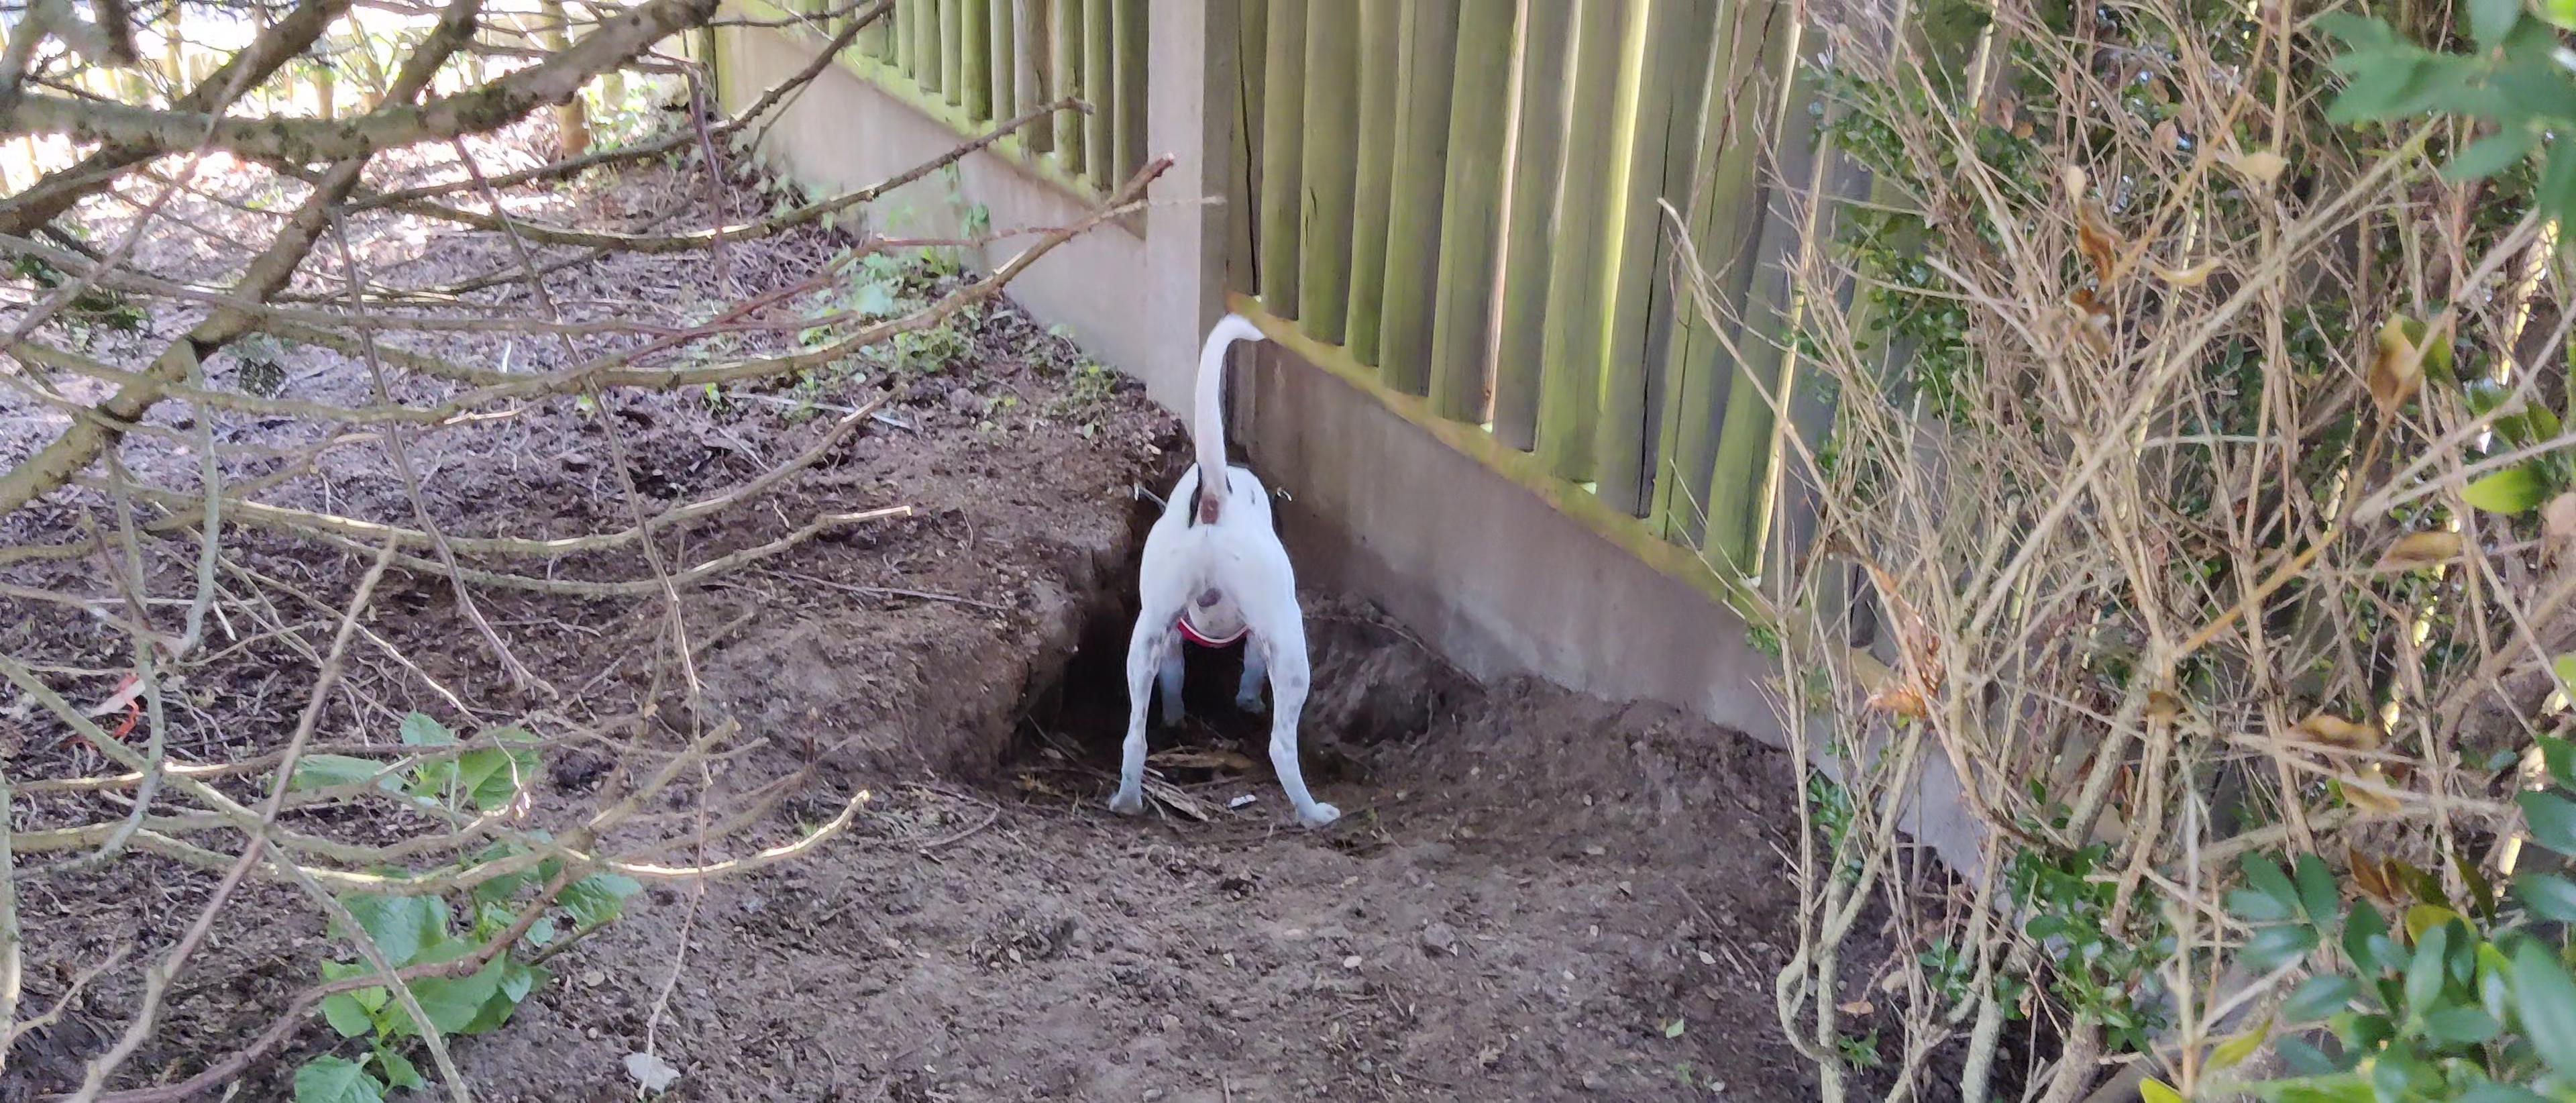Dog: (1083, 289, 1365, 838)
